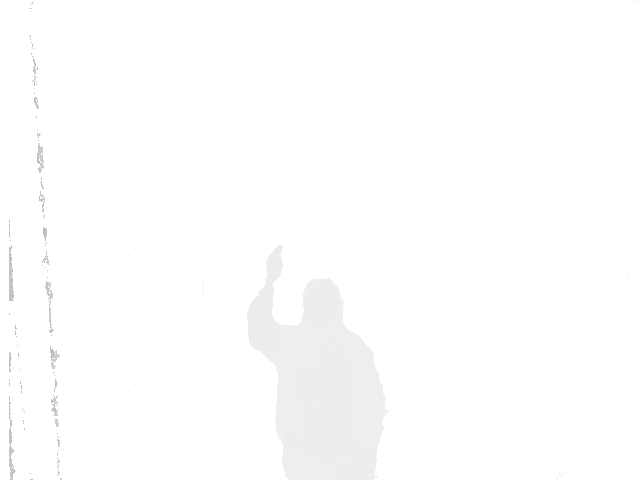hand: (261, 242, 288, 286)
head: (296, 278, 348, 333)
person: (246, 243, 391, 480)
